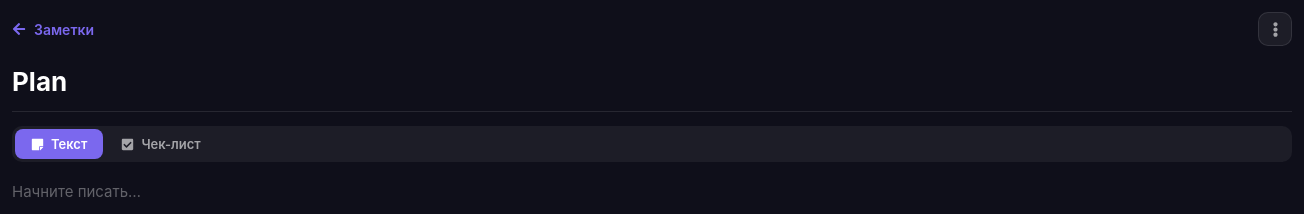
Test case: the category menu shows a folder of the user's own as the selected one
Expected: the field showing "Plan" is shown, [12,66,1292,112]
Click the button named "More options".
click(1275, 29)  # box [1258,12,1292,46]
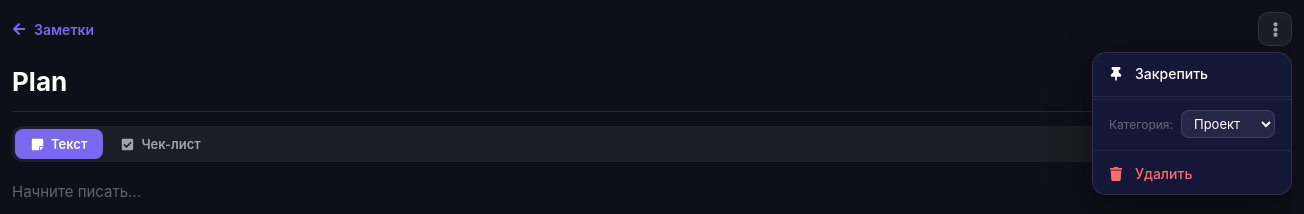
Result: the dropdown shows "Проект" at [1181,110,1275,138]
